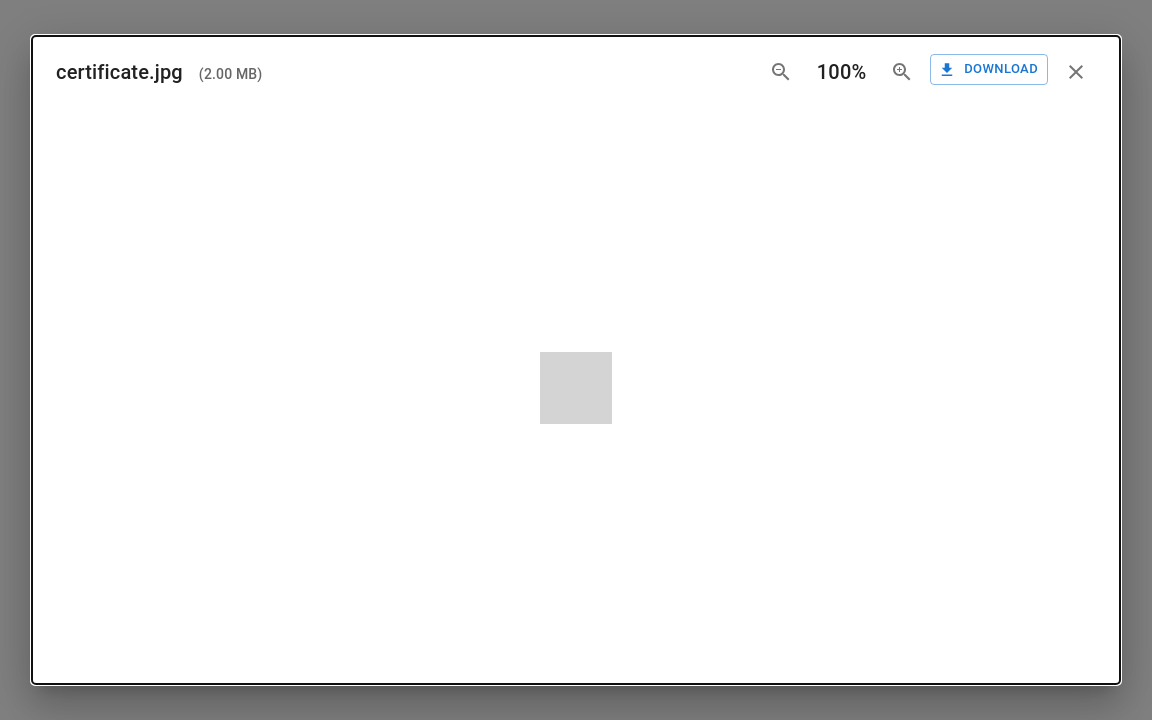
Test: CACDocumentPreview Component › Image rendering with zoom › should zoom out when zoom out button is clicked
Check: the text "100%" is shown, box [817,60,866,84]
Click the button named "Zoom Out" at (781,72), box [761,52,801,92]
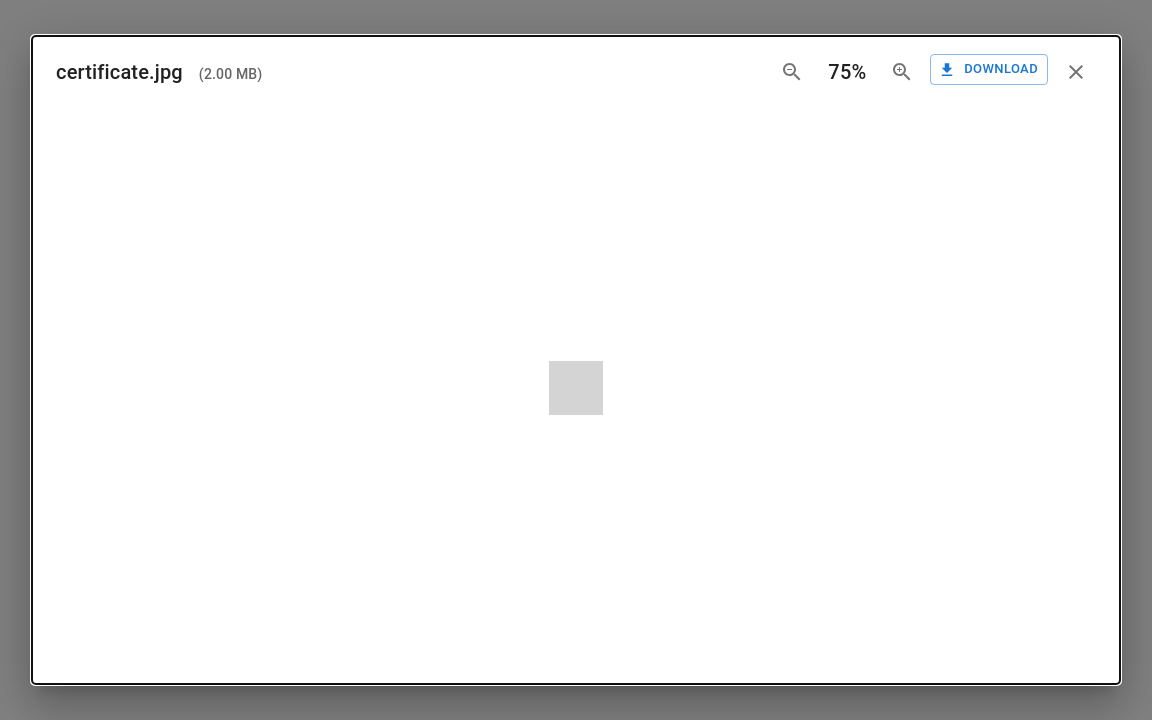
Check: the text "75%" is shown, box [828,60,866,84]
